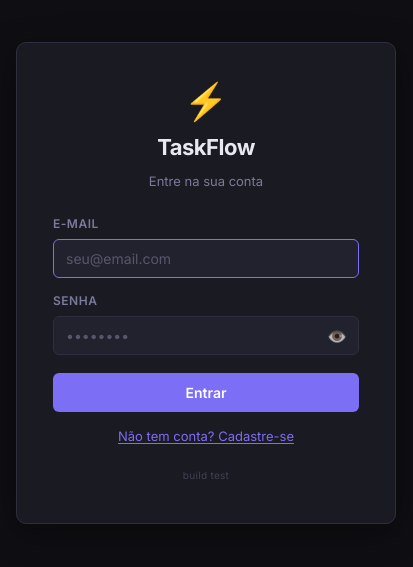
LoginPage › exibe a mensagem de erro e mantém o formulário montado ao errar a senha
The width and height of the screenshot is (413, 567).
In the field with placeholder "seu@email.com": (206, 259) [53, 239, 359, 278], type "a@b.com"
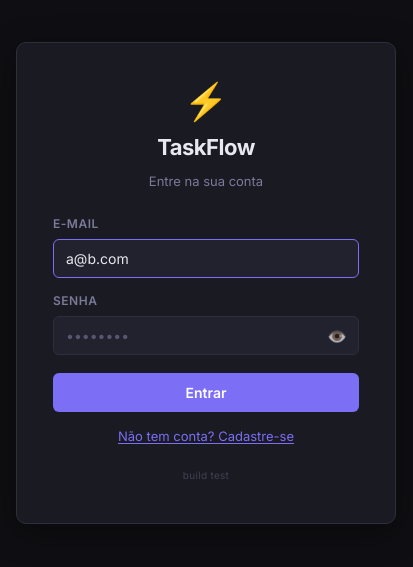
In the password field with placeholder "••••••••": (206, 336) [53, 316, 359, 355], type "senhaerrada"
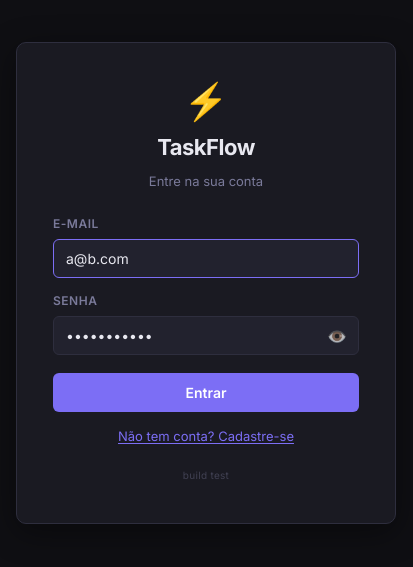
Click the button "Entrar": (206, 393) [53, 373, 359, 412]
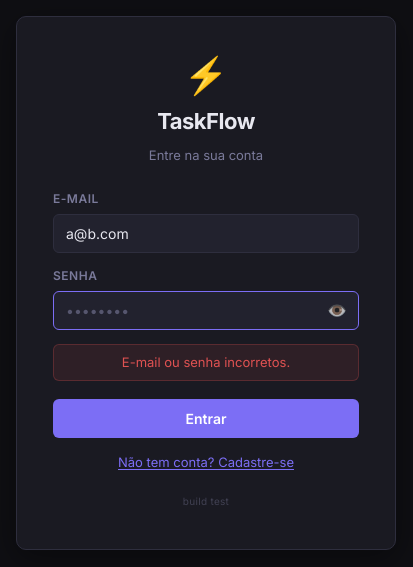
Check: the button "Entrar" is shown, box [53, 399, 359, 438]
Check: the text "E-mail ou senha incorretos." is shown, box [53, 344, 359, 381]
